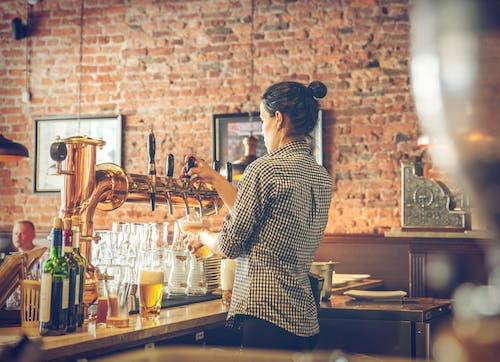alcohol: (37, 226, 70, 337), (175, 211, 216, 262), (61, 228, 80, 334), (105, 264, 133, 329), (95, 264, 121, 326), (72, 226, 87, 328), (138, 264, 165, 320)
